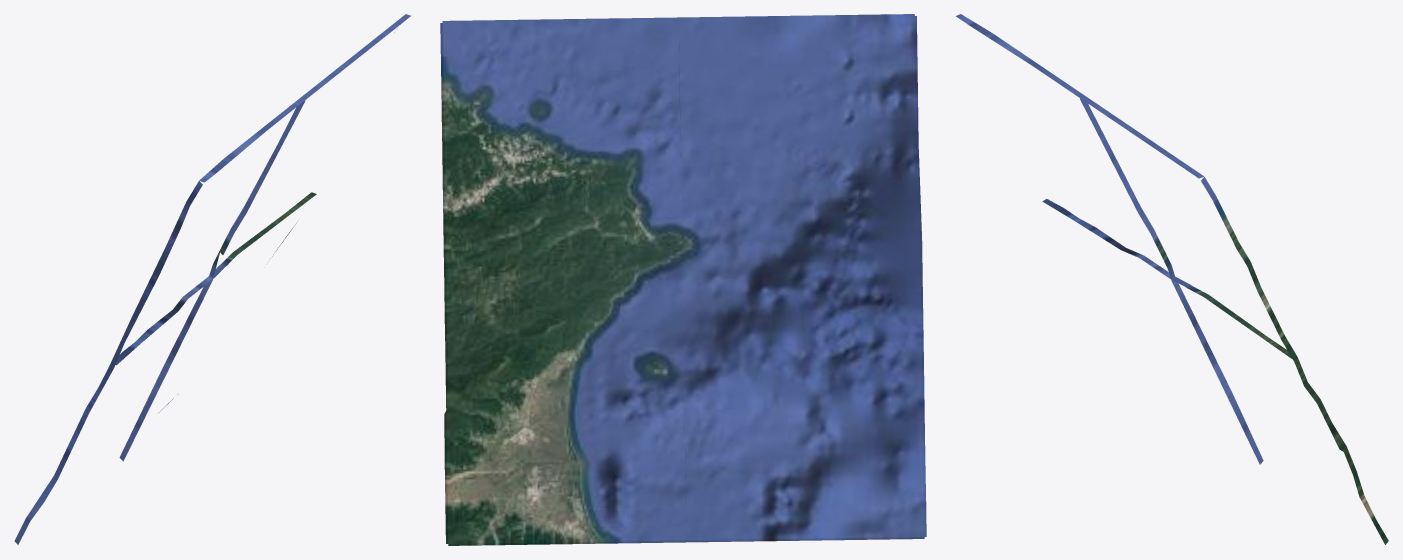
3 renders of one model, left to right at view 1: azimuth 30°, elevation 25°; view 2: azimuth 150°, elevation 25°; view 3: azimuth 270°, elevation 25°, orthographic. The views are drawn at different scales.
Bounding box in the file's own units: 78691 × 71743 × 67414.
Materials: 1 (1 with a texture image).
